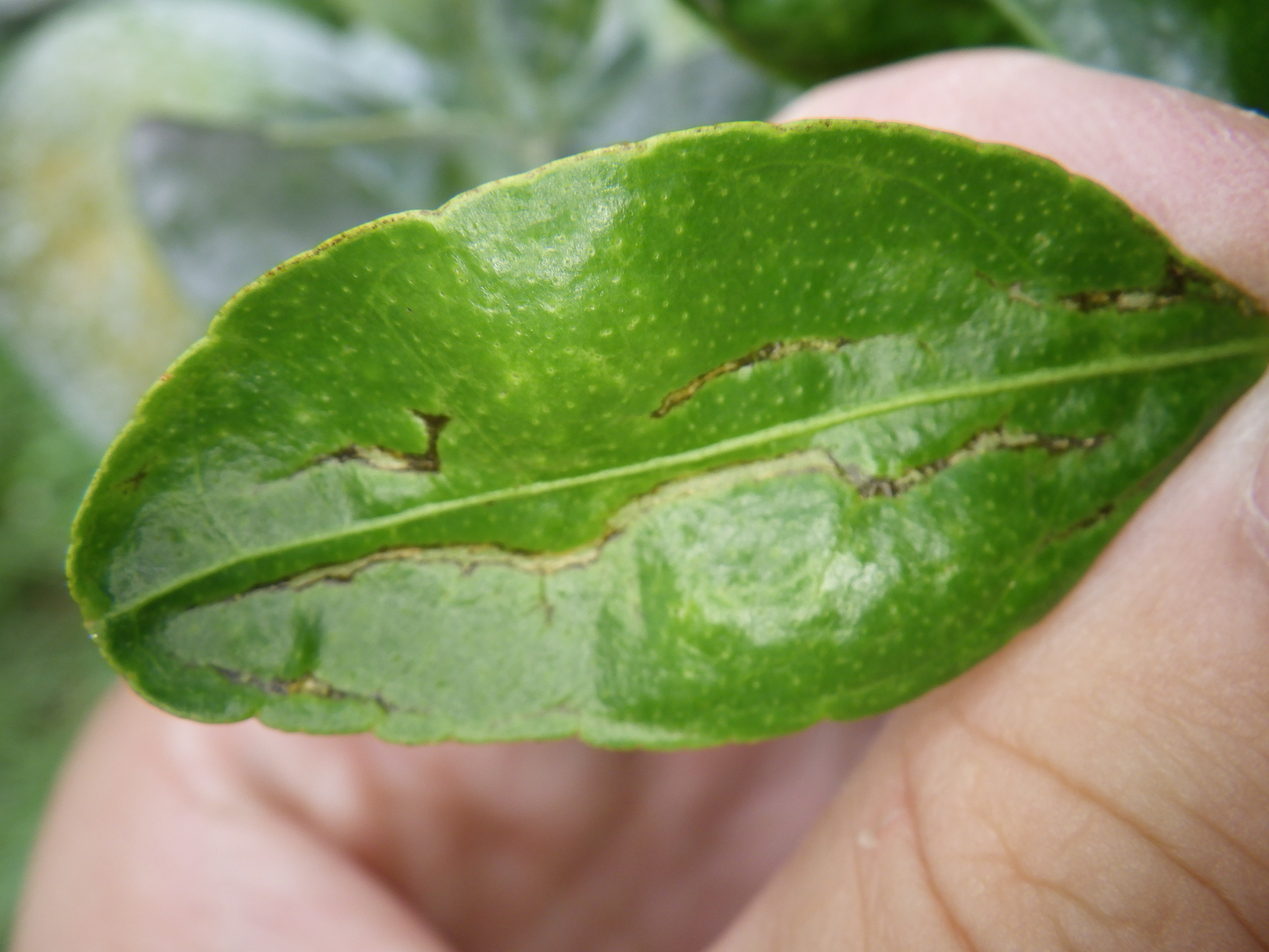Thrips_Damage: (265, 260, 1198, 698)
